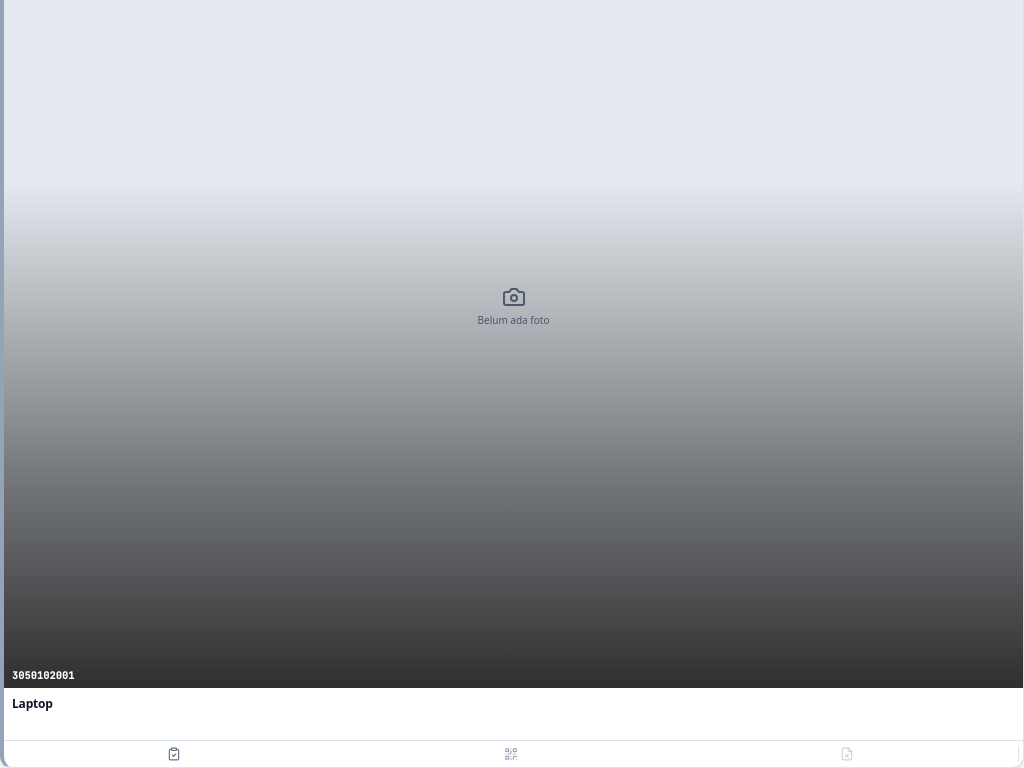
Test: popup stiker di kartu galeri › menyebut ukuran Besar sebagai huruf TEBAL L
The width and height of the screenshot is (1024, 768).
(page scrolled)
What coordinates should you click on to do the following:
click the button with test id "gallery-stiker-a1"
I would click on:
 (511, 754)
Its box is [343,741,678,767].
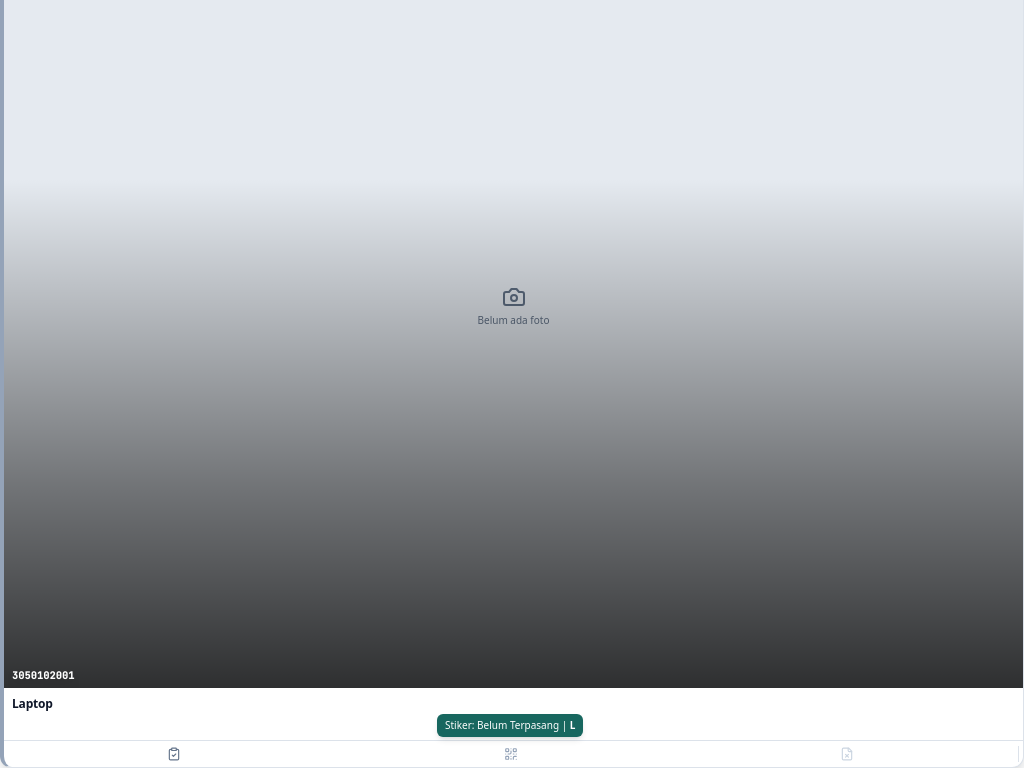
Expected: the dialog shows "Stiker: Belum Terpasang", [437,714,583,737]
Expected: the text "L" is shown, [570,718,576,732]
